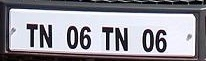character: (38, 22, 53, 49), (114, 25, 129, 52), (25, 22, 39, 48), (100, 25, 114, 50), (154, 28, 167, 54), (78, 25, 92, 49), (66, 24, 79, 49), (141, 27, 154, 52)
